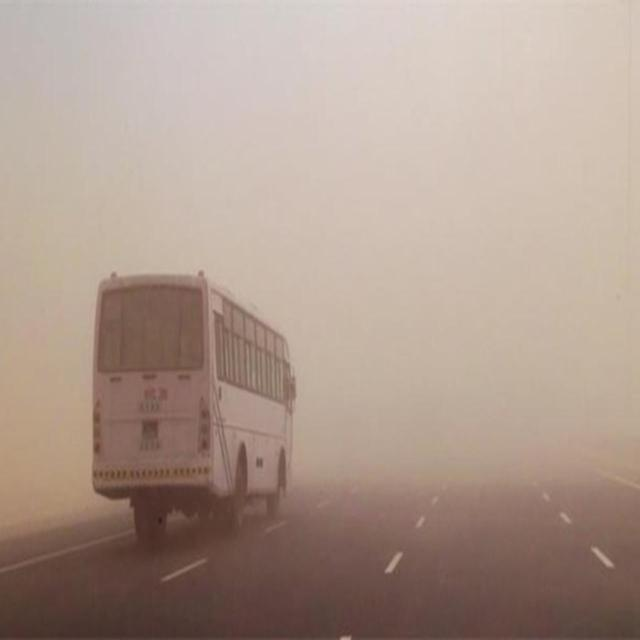Bus: (82, 268, 301, 544)
